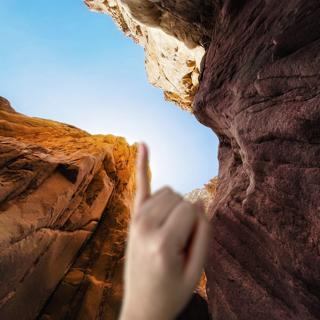Fine: (112, 127, 222, 314)
